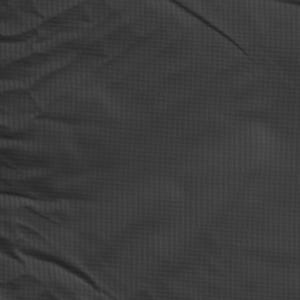Wrinkle: (1, 1, 139, 300), (160, 1, 262, 70), (274, 1, 300, 12)
